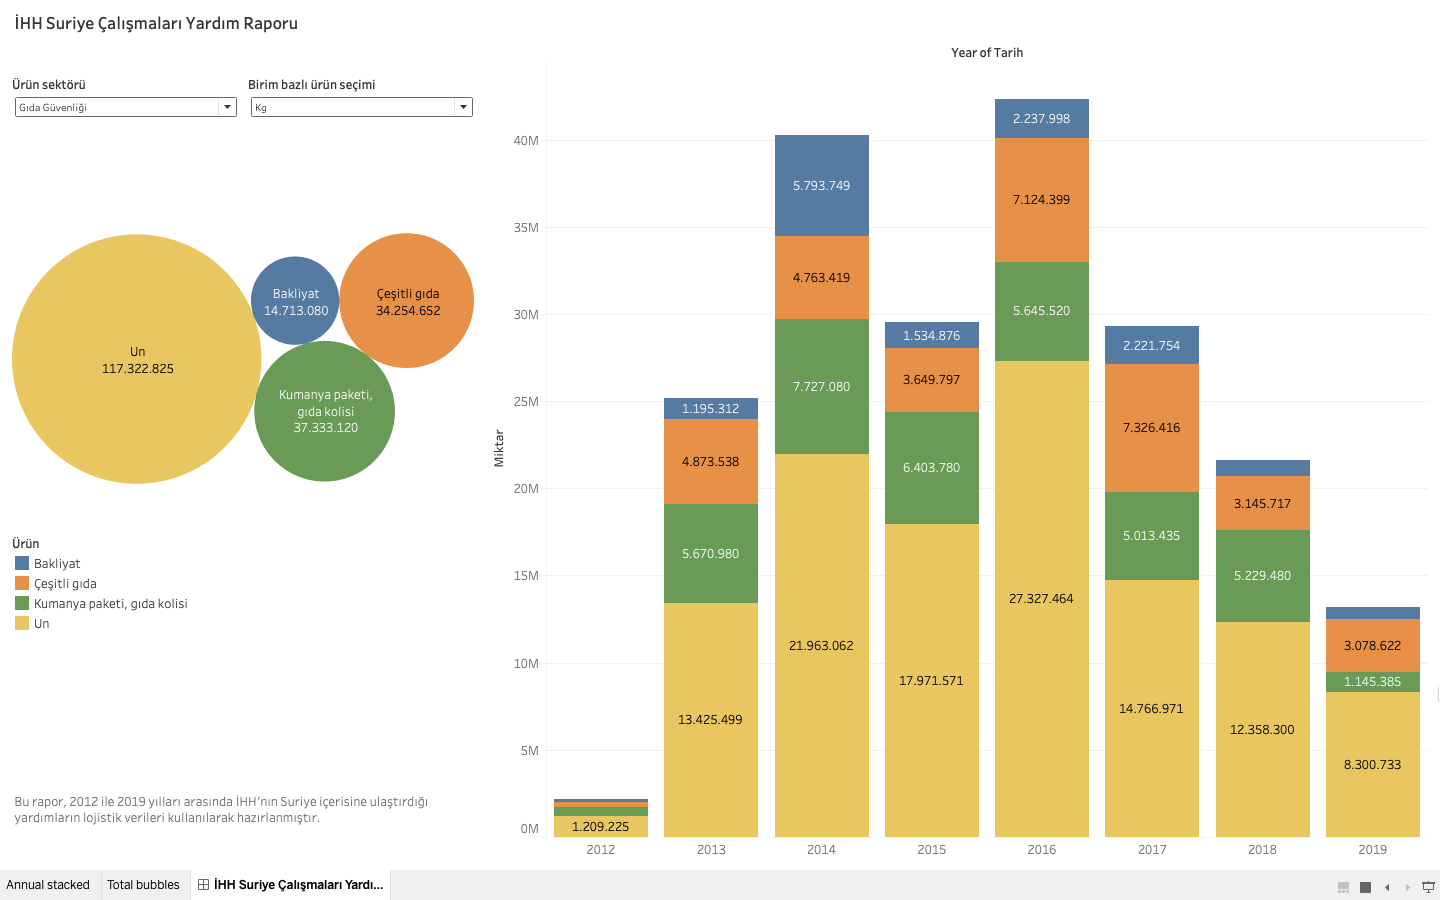

Layout of this report page (visuals, bound fields, positions):
{"tool":"tableau","page":{"name":"İHH Suriye Çalışmaları Yardım Raporu","canvas":[1000,1000],"units":"permille","ordinal":0},"visuals":[{"type":"title","box":[6.5,9.9,987,37.1]},{"type":"blank","box":[6.5,47,326.8,39.4]},{"type":"worksheet","title":"Annual stacked","mark":"Bar","rows":["Miktar"],"cols":["Tarih"],"box":[333.3,47,660.2,943.1]},{"type":"filter","title":"Total bubbles","param":"[federated.1mxeqqh1x6fw6u15vb8dy1q2r8ap].[none:Sektör:nk]","box":[6.5,86.4,163.3,90.4]},{"type":"filter","title":"Total bubbles","param":"[federated.1mxeqqh1x6fw6u15vb8dy1q2r8ap].[none:Birim:nk]","box":[169.8,86.4,163.5,90.4]},{"type":"blank","box":[6.5,176.8,326.8,39.6]},{"type":"worksheet","title":"Total bubbles","mark":"Circle","box":[6.5,216.4,326.8,394.6]},{"type":"legend","title":"Total bubbles","param":"[federated.1mxeqqh1x6fw6u15vb8dy1q2r8ap].[none:Ürün:nk]","box":[6.5,611.1,326.8,258.9]},{"type":"text","box":[6.5,869.9,326.8,120.2]}]}

Visuals, with their boxes on the dashboard's canvas, which has no fixed pixel size, in thousandths of its width and height (x1, y1, x2, y2). These are canvas units, not pixel positions in the 1440x900 screenshot, which may show the page scaled, cropped or inside an application window:
title: crop(6, 10, 994, 47)
blank: crop(6, 47, 333, 86)
"Annual stacked" worksheet (Bar marks): crop(333, 47, 994, 990)
"Total bubbles" filter: crop(6, 86, 170, 177)
"Total bubbles" filter: crop(170, 86, 333, 177)
blank: crop(6, 177, 333, 216)
"Total bubbles" worksheet (Circle marks): crop(6, 216, 333, 611)
"Total bubbles" legend: crop(6, 611, 333, 870)
text: crop(6, 870, 333, 990)
